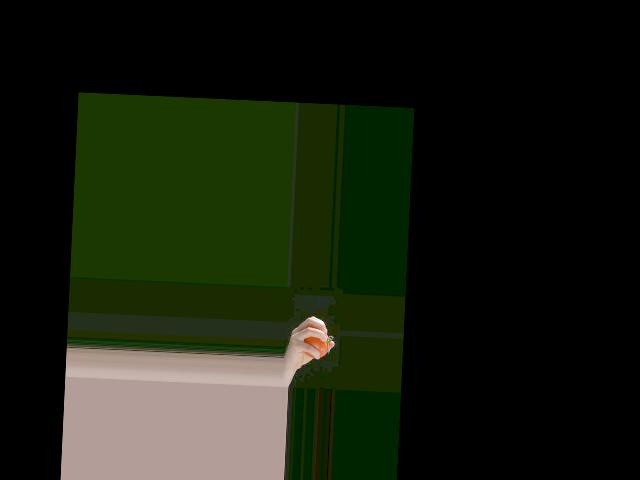tomato: (302, 333, 328, 358)
